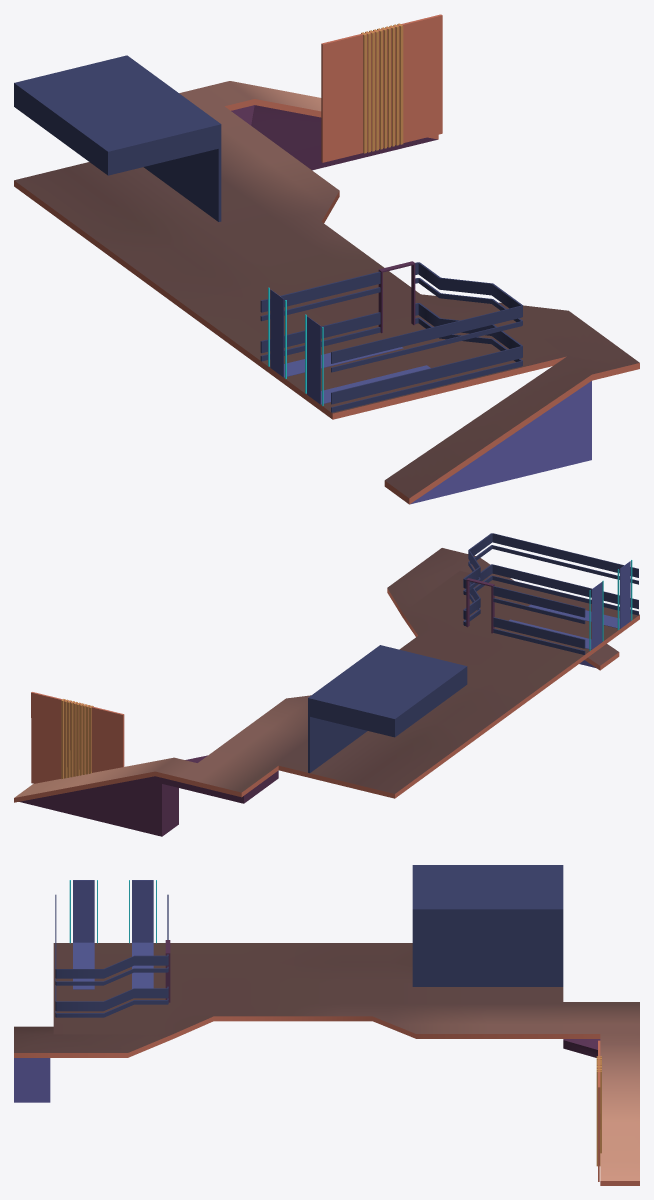
File: SM_GameArea_Wall_05.fbx
3 views of the same model, one above another, from view 1: azimuth 30°, elevation 25°; view 2: azimuth 150°, elevation 25°; view 3: azimuth 270°, elevation 25° (orthographic). The views are drawn at different scales.
Visible parts, largest first — view 1: SM_GameArea_Wall_05; view 2: SM_GameArea_Wall_05; view 3: SM_GameArea_Wall_05.
Part boxes in pixels (x1,y1,x2,y2): SM_GameArea_Wall_05: (14, 14, 639, 504); SM_GameArea_Wall_05: (14, 533, 639, 836); SM_GameArea_Wall_05: (14, 865, 639, 1185).
Size of what is drawn, in the model's own units: 89.28 by 34.64 by 134.
